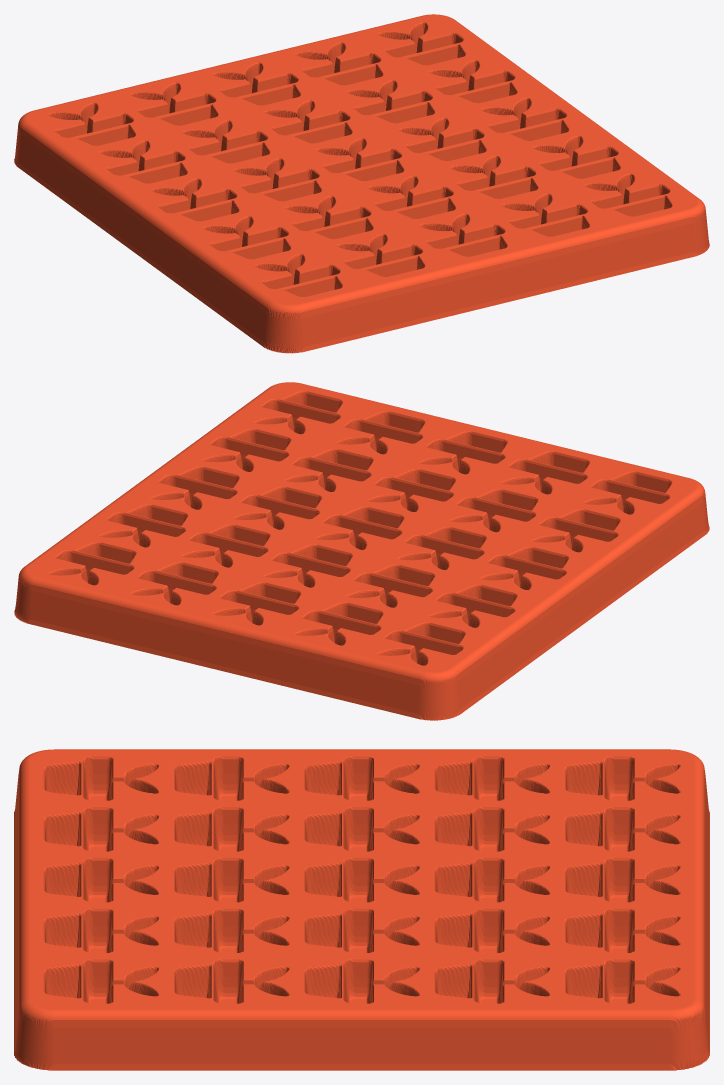
The model's file is mold.glb.
The picture shows the model from 3 angles, top to bottom: view 1: azimuth 30°, elevation 25°; view 2: azimuth 150°, elevation 25°; view 3: azimuth 270°, elevation 25°; orthographic projection. The views are drawn at different scales.
Parts seen in each view (by area): view 1: geometry_0; view 2: geometry_0; view 3: geometry_0.
Boxes of the visible parts, x1,y1,x2,y2 form: geometry_0: (14, 14, 709, 353); geometry_0: (14, 382, 709, 720); geometry_0: (14, 749, 709, 1070).
Bounding box in the file's own units: 0.1467 × 0.0136 × 0.1584.
